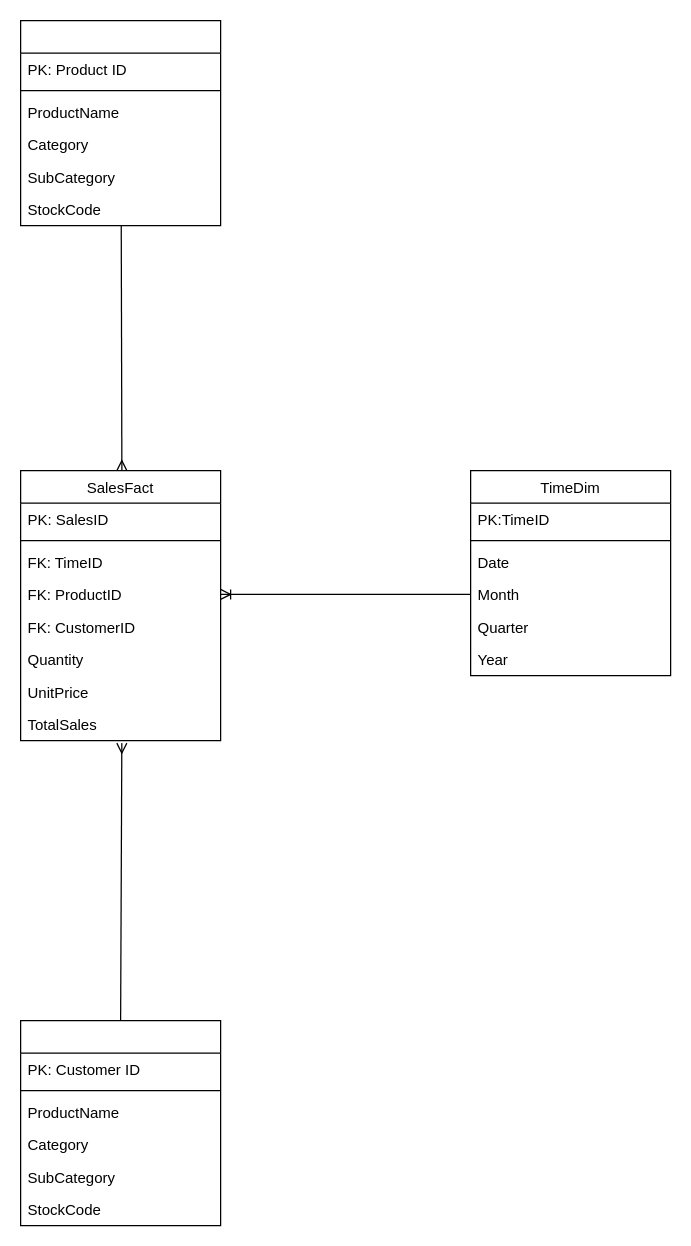
This 691x1246 diagram has some shape labels left out. The shapes that lost their labels are listed below. From the top down, each one's box as (x1, y1, x2, y2) in pixels, then its label:
(19, 19, 221, 226): ProductDim
(19, 1019, 221, 1226): CustomerDim
